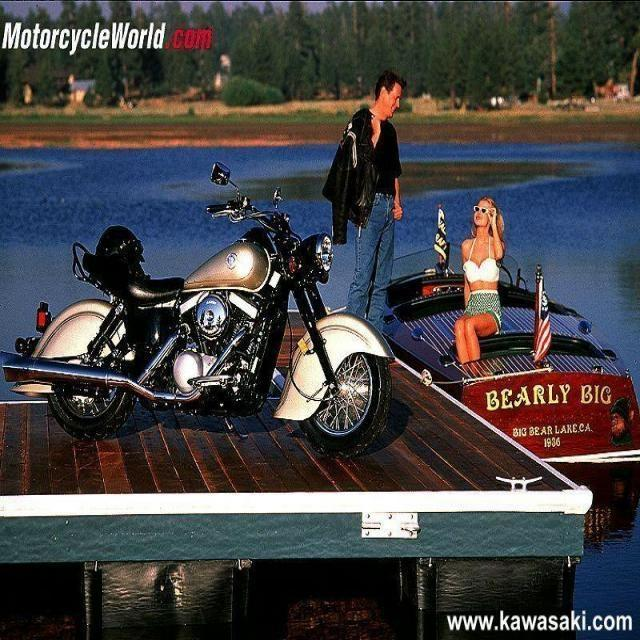Motorcycle: (38, 164, 390, 453)
